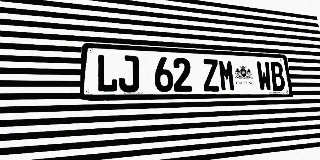2: (173, 57, 192, 92)
6: (154, 57, 174, 92)
B: (269, 62, 286, 91)
J: (119, 55, 139, 92)
L: (96, 54, 118, 92)
M: (218, 59, 236, 91)
W: (256, 61, 273, 91)
Z: (202, 59, 220, 92)
